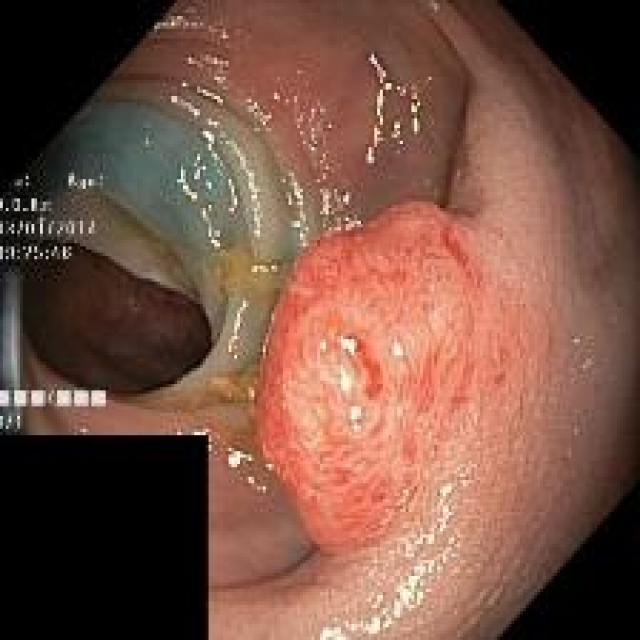Polyps: (258, 204, 548, 554)
